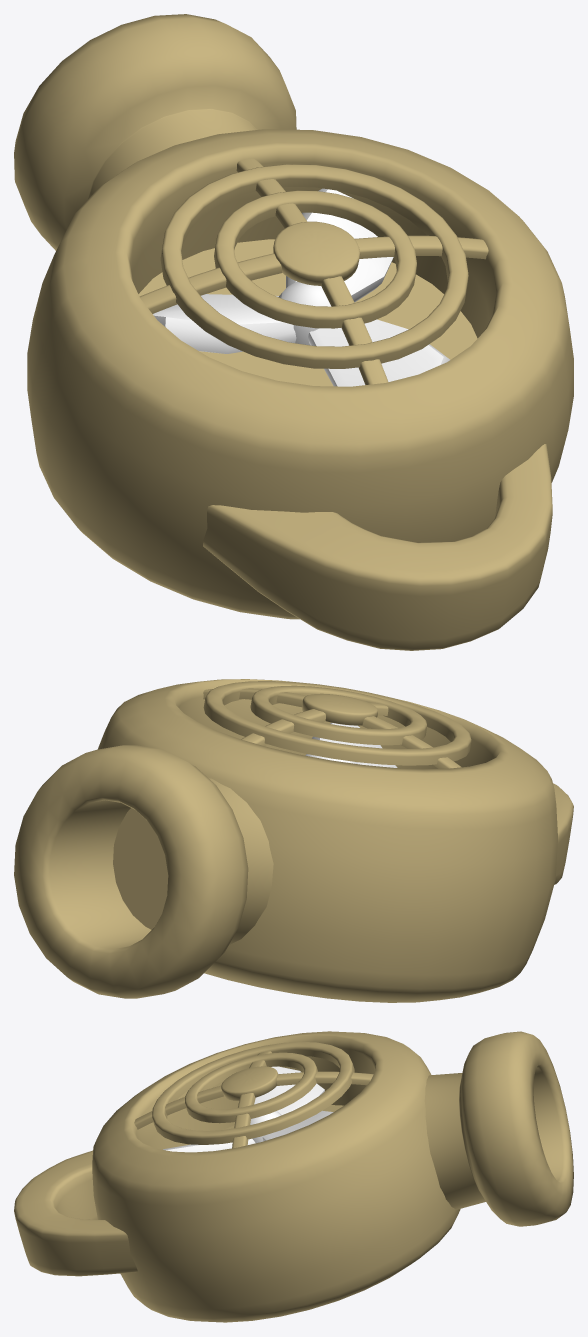
The model's file is WindBlower - Shadow.fbx.
3 renders of one model, top to bottom at view 1: azimuth 30°, elevation 25°; view 2: azimuth 150°, elevation 25°; view 3: azimuth 270°, elevation 25°, orthographic. The views are drawn at different scales.
Visible parts, largest first — view 1: WindBlower - Shadow, Cylinder009; view 2: WindBlower - Shadow, Cylinder009; view 3: WindBlower - Shadow, Cylinder009.
Part boxes in pixels (x1=…): WindBlower - Shadow: x1=14, y1=14, x2=573, y2=650; Cylinder009: x1=153, y1=188, x2=449, y2=386; WindBlower - Shadow: x1=14, y1=679, x2=573, y2=1002; Cylinder009: x1=305, y1=722, x2=397, y2=767; WindBlower - Shadow: x1=14, y1=1031, x2=573, y2=1322; Cylinder009: x1=163, y1=1066, x2=333, y2=1152.
Bounding box in the file's own units: 11.5 × 8.94 × 17.46.
